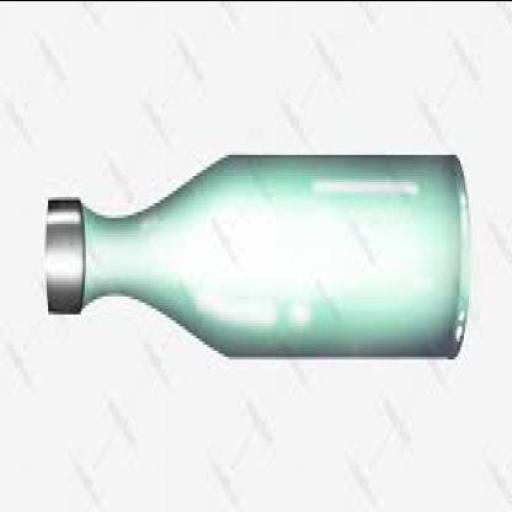glass: (78, 157, 465, 361)
metal: (41, 205, 81, 319)
